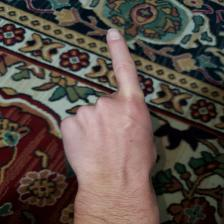one: (64, 27, 158, 194)
